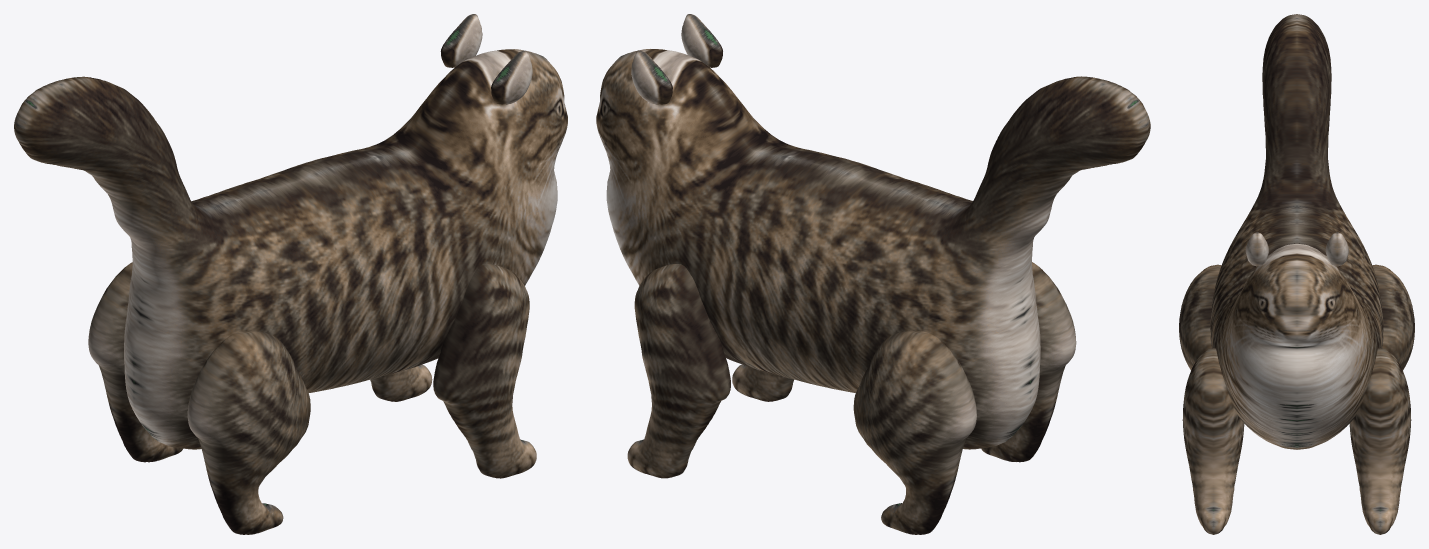
Rendered from cat.glb.
The picture shows the model from 3 angles, left to right: view 1: azimuth 30°, elevation 25°; view 2: azimuth 150°, elevation 25°; view 3: azimuth 270°, elevation 25°; orthographic projection. The views are drawn at different scales.
Parts seen in each view (by area): view 1: Mesh_0; view 2: Mesh_0; view 3: Mesh_0.
Part boxes in pixels (box(x1,y1,x2,y2)): Mesh_0: box(14, 14, 567, 534); Mesh_0: box(596, 14, 1150, 534); Mesh_0: box(1179, 14, 1414, 534).
Bounding box in the file's own units: 9.44 × 7.41 × 4.43.
Materials: 1 (1 with a texture image).
